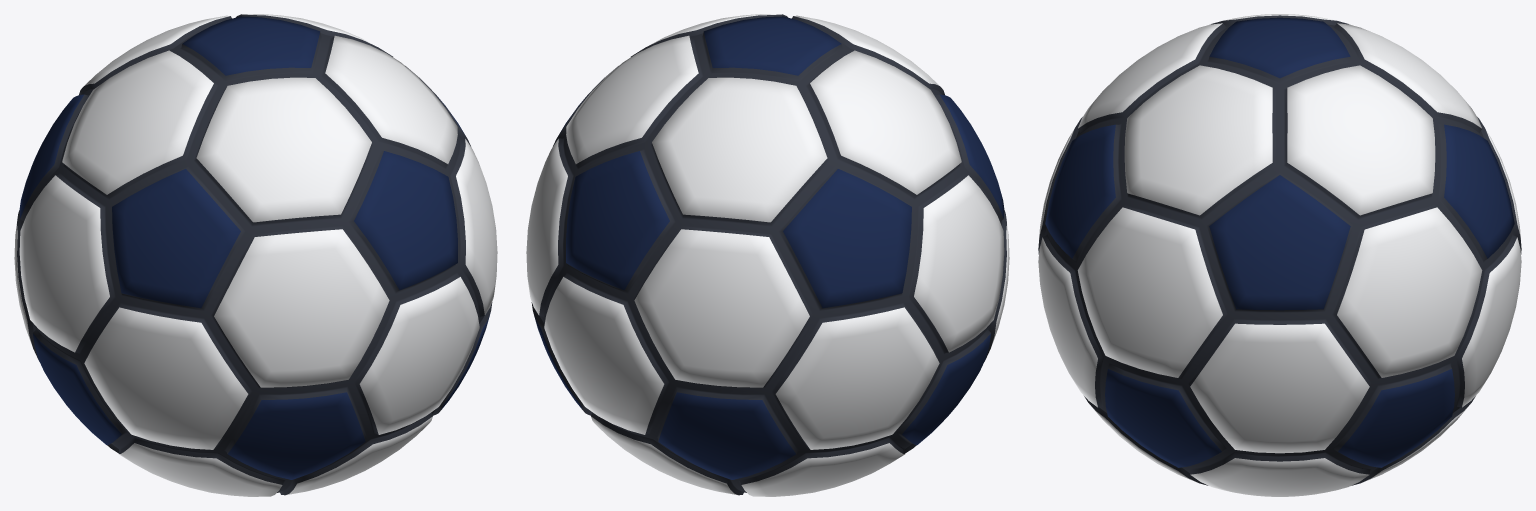
The model's file is ball.glb.
The picture shows the model from 3 angles, left to right: view 1: azimuth 30°, elevation 25°; view 2: azimuth 150°, elevation 25°; view 3: azimuth 270°, elevation 25°; orthographic projection.
Visible parts, largest first — view 1: TutoryBall; view 2: TutoryBall; view 3: TutoryBall.
Boxes of the visible parts, x1,y1,x2,y2 form: TutoryBall: (14, 14, 497, 496); TutoryBall: (526, 14, 1009, 496); TutoryBall: (1038, 14, 1521, 496).
Size of the model in its own units: 2 by 2 by 2.
